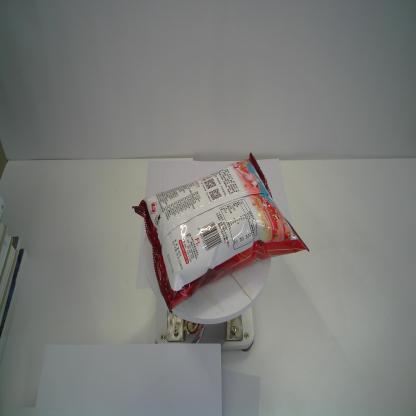Puffed Food: (131, 152, 310, 315)
